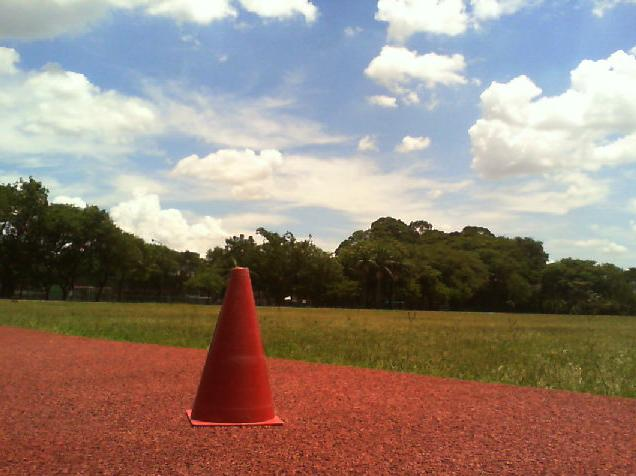0 cone: (185, 267, 285, 427)
